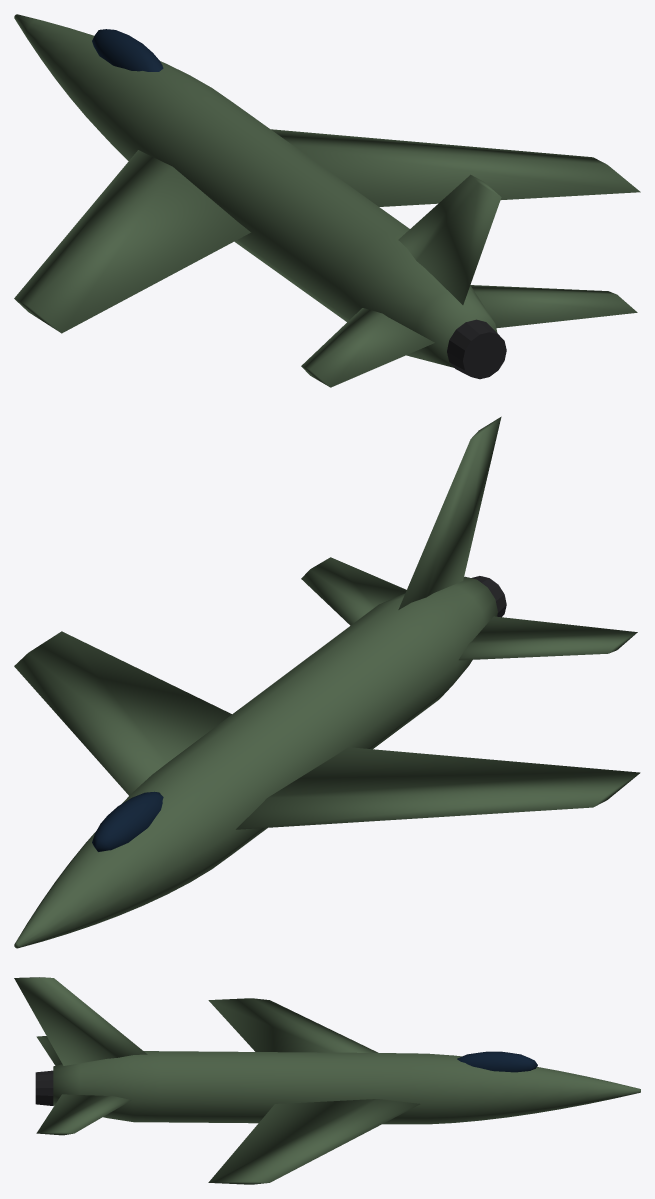
Rendered from hunter.obj.
The picture shows the model from 3 angles, top to bottom: view 1: azimuth 30°, elevation 25°; view 2: azimuth 150°, elevation 25°; view 3: azimuth 270°, elevation 25°; orthographic projection. The views are drawn at different scales.
Parts seen in each view (by area): view 1: Body, Detail, Canopy; view 2: Body, Canopy; view 3: Body, Canopy, Detail.
Part boxes in pixels (x1,y1,x2,y2): Body: (14, 14, 640, 387); Detail: (447, 319, 506, 379); Canopy: (92, 29, 163, 71); Body: (14, 416, 640, 948); Canopy: (92, 791, 163, 851); Body: (14, 977, 640, 1184); Canopy: (457, 1051, 537, 1072); Detail: (35, 1070, 53, 1105).
Bounding box in the file's own units: 10.3 × 3.76 × 14.94.
